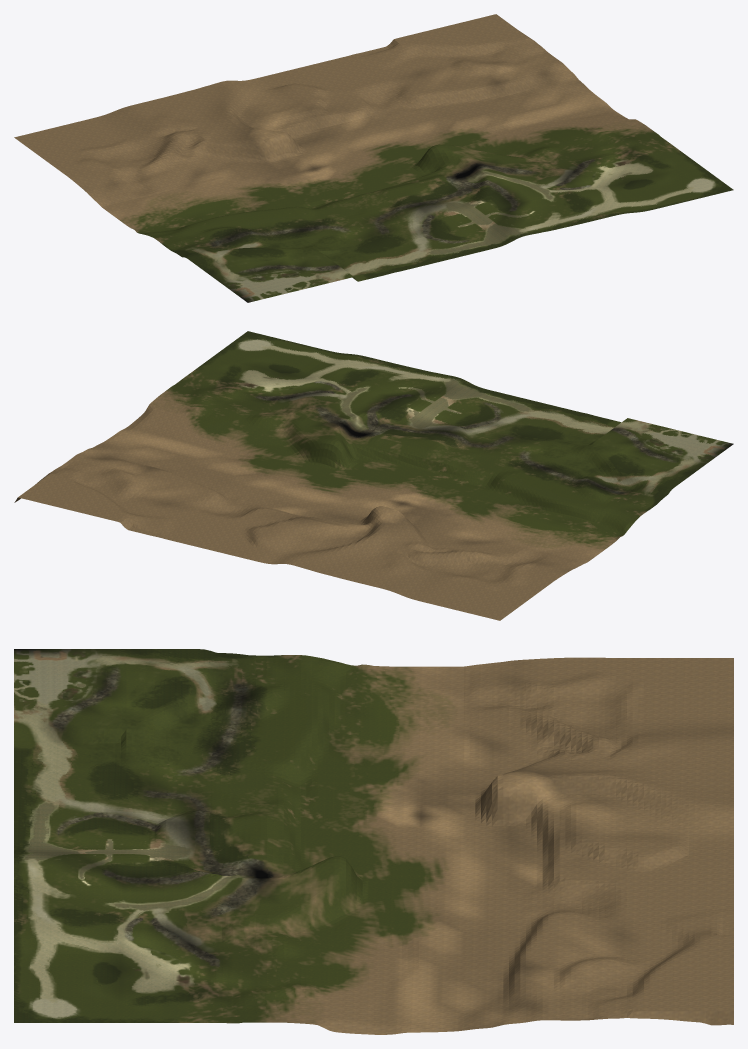
The picture shows the model from 3 angles, top to bottom: view 1: azimuth 30°, elevation 25°; view 2: azimuth 150°, elevation 25°; view 3: azimuth 270°, elevation 25°; orthographic projection. The views are drawn at different scales.
Parts seen in each view (by area): view 1: Terrain8; view 2: Terrain8; view 3: Terrain8.
Part boxes in pixels (x1=…): Terrain8: x1=14, y1=14, x2=733, y2=302; Terrain8: x1=14, y1=331, x2=733, y2=620; Terrain8: x1=14, y1=649, x2=733, y2=1034.
Size of the model in its own units: 120000 by 5088 by 100000.
